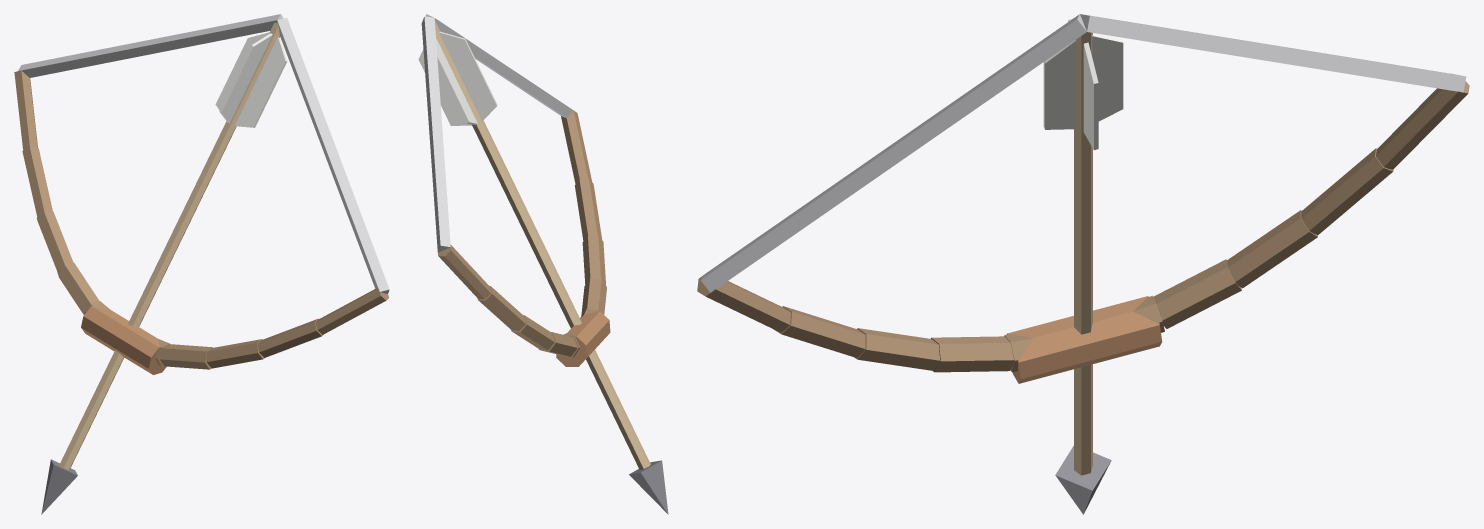
The model's file is bow_pulling_2_held.gltf.
The picture shows the model from 3 angles, left to right: view 1: azimuth 30°, elevation 25°; view 2: azimuth 150°, elevation 25°; view 3: azimuth 270°, elevation 25°; orthographic projection. The views are drawn at different scales.
Visible parts, largest first — view 1: archery_bow_pulling_2_held; view 2: archery_bow_pulling_2_held; view 3: archery_bow_pulling_2_held.
Part boxes in pixels (left/top/right/bottom): archery_bow_pulling_2_held: left=14, top=14, right=389, bottom=514; archery_bow_pulling_2_held: left=418, top=14, right=668, bottom=514; archery_bow_pulling_2_held: left=697, top=14, right=1469, bottom=514.
Bounding box in the file's own units: 0.266 × 0.4559 × 0.4683.
